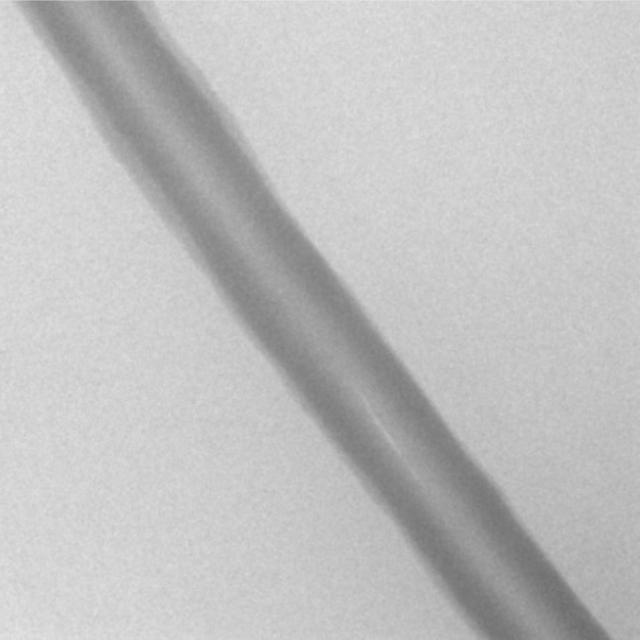crack: (356, 384, 425, 492)
